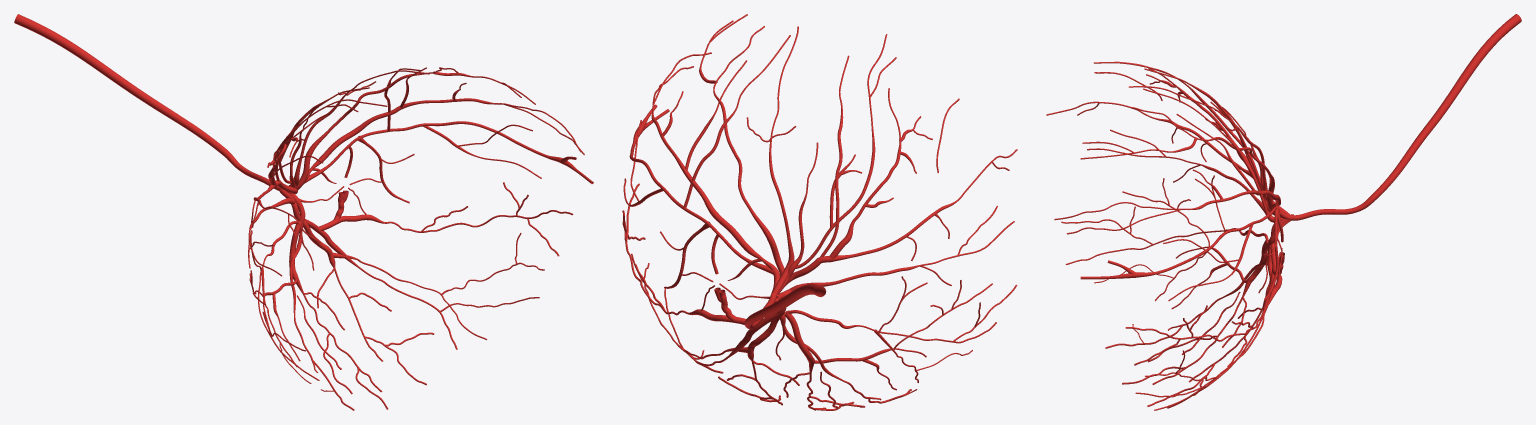
The model's file is circulatorio-central-retinal-artery-l.glb.
3 views of the same model, side by side, from view 1: azimuth 30°, elevation 25°; view 2: azimuth 150°, elevation 25°; view 3: azimuth 270°, elevation 25° (orthographic). The views are drawn at different scales.
Parts seen in each view (by area): view 1: Central retinal artery.l; view 2: Central retinal artery.l; view 3: Central retinal artery.l.
Boxes of the visible parts, left/top/right/bottom form: Central retinal artery.l: left=14, top=14, right=593, bottom=410; Central retinal artery.l: left=622, top=14, right=1017, bottom=410; Central retinal artery.l: left=1046, top=14, right=1521, bottom=410.
Size of the model in its own units: 0.0295 by 0.0251 by 0.0339.
